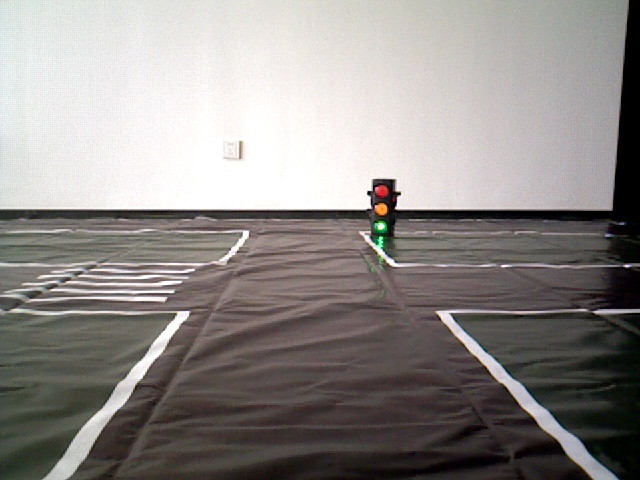green: (372, 184, 391, 240)
